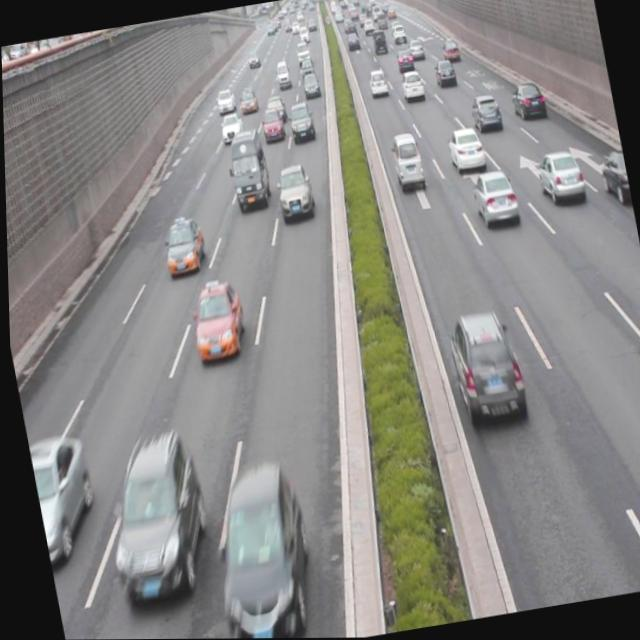car: (89, 428, 217, 610), (194, 458, 320, 639), (25, 430, 101, 568), (441, 306, 525, 424), (185, 280, 247, 363), (532, 146, 585, 207), (157, 216, 208, 277), (467, 168, 518, 229), (271, 163, 316, 223), (443, 123, 486, 175), (596, 147, 630, 206), (508, 78, 546, 123), (466, 92, 501, 134), (285, 101, 316, 145), (257, 105, 286, 143), (216, 110, 245, 146), (397, 68, 424, 102), (431, 57, 456, 88), (261, 94, 286, 123), (366, 67, 389, 98), (213, 86, 236, 115), (236, 88, 258, 115)
truck: (221, 126, 272, 213), (388, 130, 425, 190)
